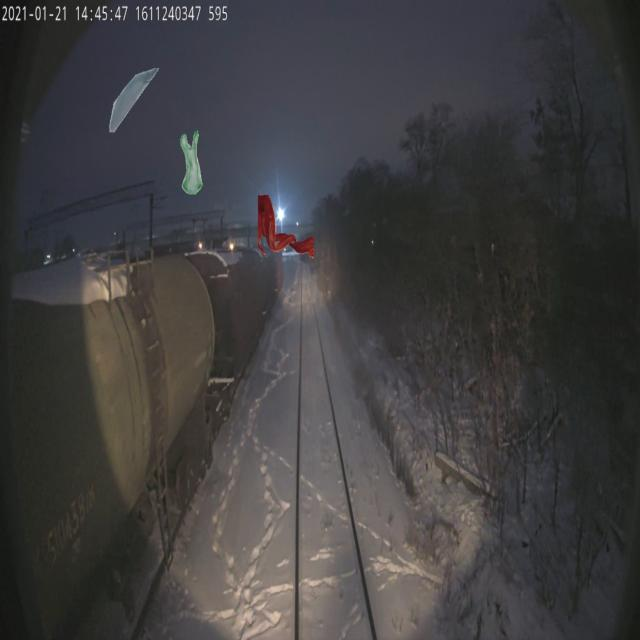floating object: (258, 194, 314, 258), (108, 68, 159, 132)
plastic bag: (180, 130, 203, 194)
